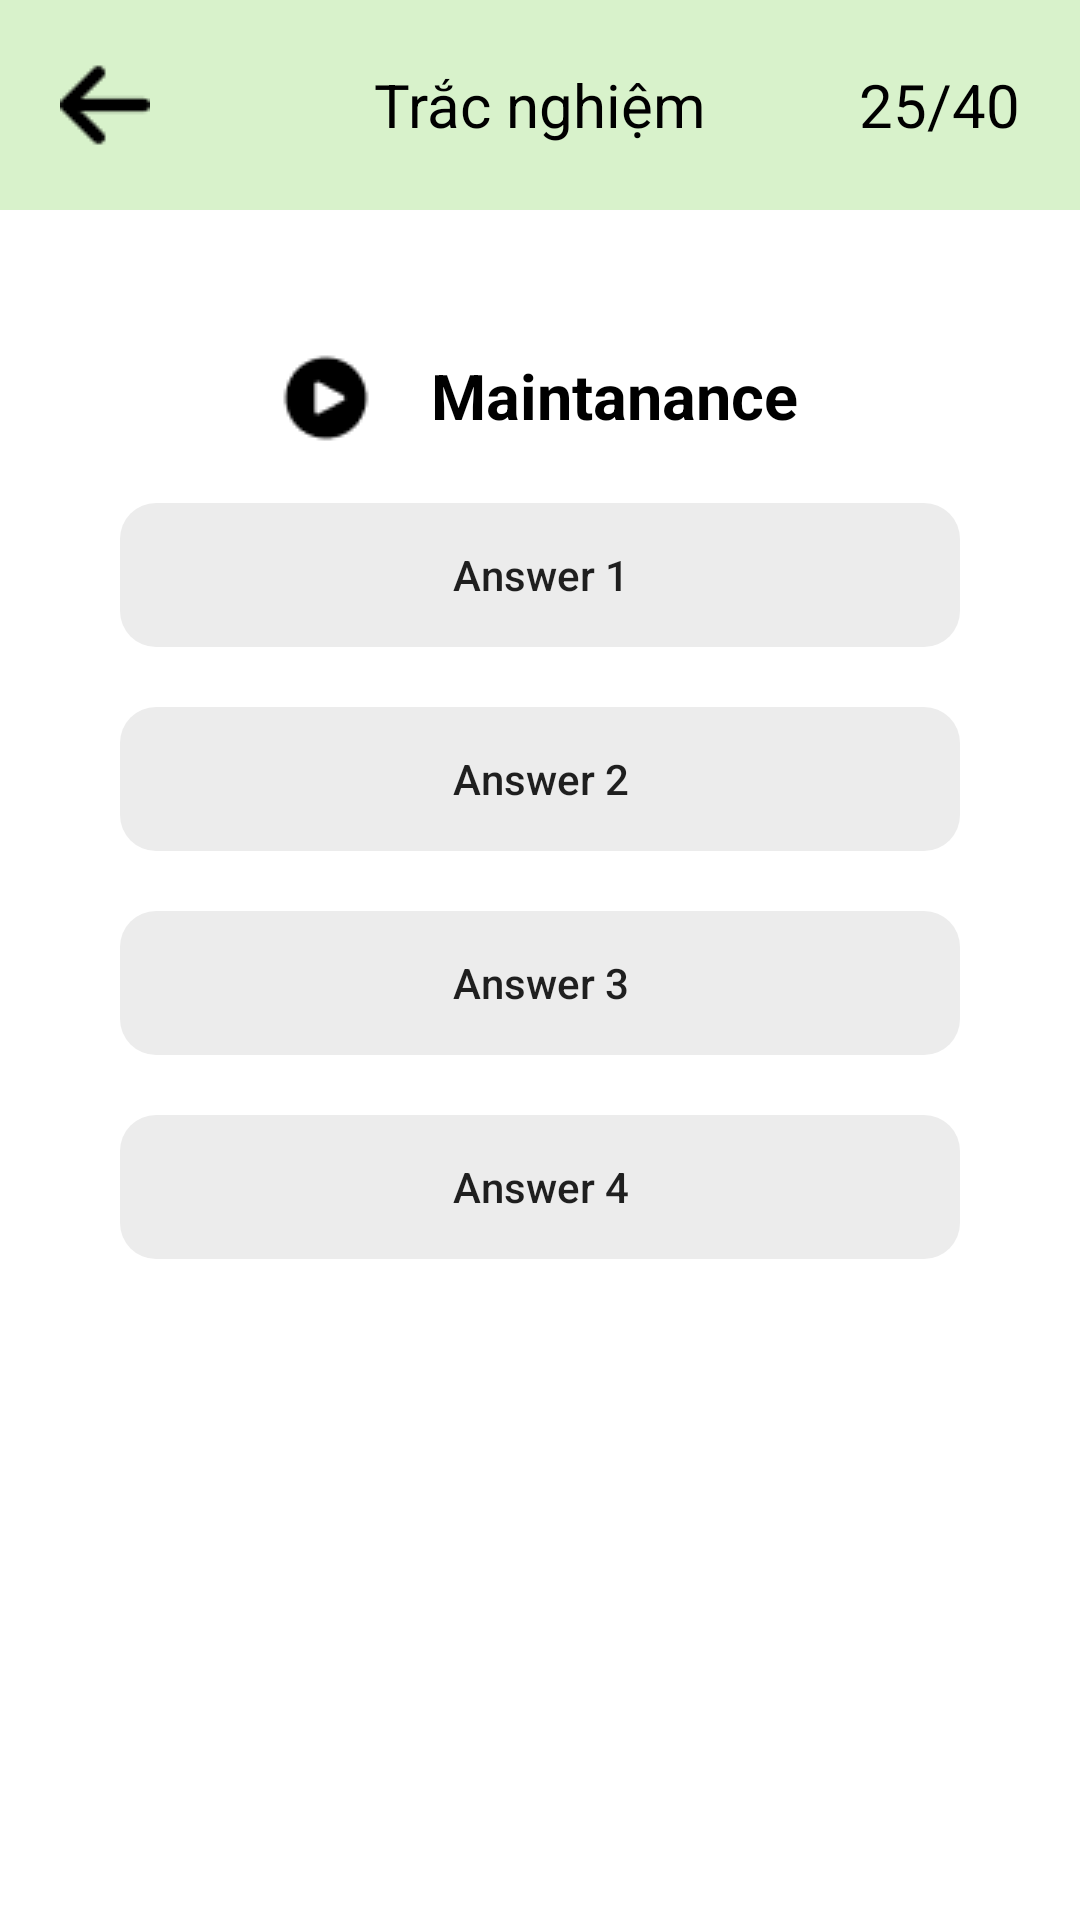

Icon click points for this 1080 × 1920 phone screenshot, format (x=x, y=y):
back: (x=105, y=105)
